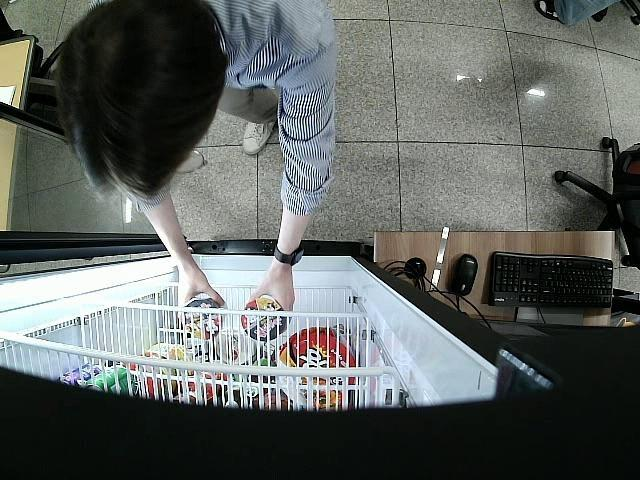08_buldak_S: (177, 300, 223, 341), (243, 300, 287, 340)
